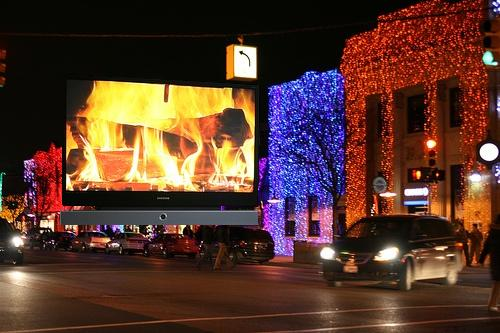tampered: (61, 75, 260, 225)
